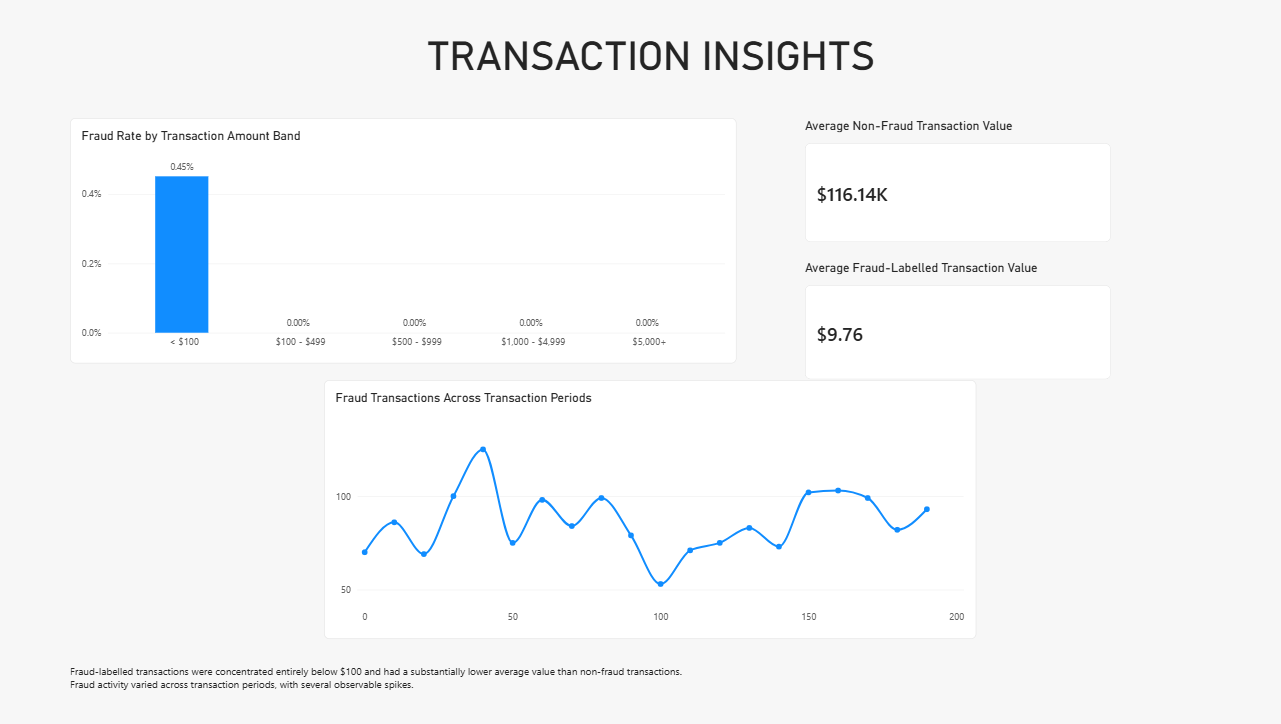

This screenshot's page, from the dashboard's own definition file:
{"tool":"powerbi","page":{"name":"Transaction Insights","canvas":[1920,1080],"ordinal":2},"visuals":[{"type":"textbox","title":"TRANSACTION INSIGHTS","box":[465,51.7,1043.3,80],"z":0},{"type":"clusteredColumnChart","title":"Fraud Rate by Transaction Amount Band","fields":{"Category":["public transactions.Amount Band"],"Y":["public transactions.Fraud / Illicit Transaction Rate"]},"box":[130,178.3,983.3,361.7],"z":1000},{"type":"lineChart","title":"Fraud Transactions Across Transaction Periods","fields":{"Category":["public transactions.Transaction Period"],"Y":["public transactions.Fraud / Illicit Transactions"]},"box":[505,565,961.7,381.7],"z":2000},{"type":"textbox","box":[129.5,964.1,962.5,73.8],"z":3000},{"type":"cardVisual","title":"Average Fraud-Labelled Transaction Value","fields":{"Data":["public transactions.Average Transaction Value"]},"box":[1213.3,388.3,451.7,176.7],"z":4000},{"type":"cardVisual","title":"Average Non-Fraud Transaction Value","fields":{"Data":["public transactions.Average Transaction Value"]},"box":[1213.3,178.3,451.7,183.3],"z":6000}]}

Visuals, with their boxes in screenshot pixels (x1, y1, x2, y2), scaled from the page's 1920x1080 canvas onto the 1281x724 screenshot:
"TRANSACTION INSIGHTS" textbox: l=310, t=35, r=1006, b=88
"Fraud Rate by Transaction Amount Band" clusteredColumnChart: l=87, t=120, r=743, b=362
"Fraud Transactions Across Transaction Periods" lineChart: l=337, t=379, r=979, b=635
textbox: l=86, t=646, r=729, b=696
"Average Fraud-Labelled Transaction Value" cardVisual: l=809, t=260, r=1111, b=379
"Average Non-Fraud Transaction Value" cardVisual: l=809, t=120, r=1111, b=242
